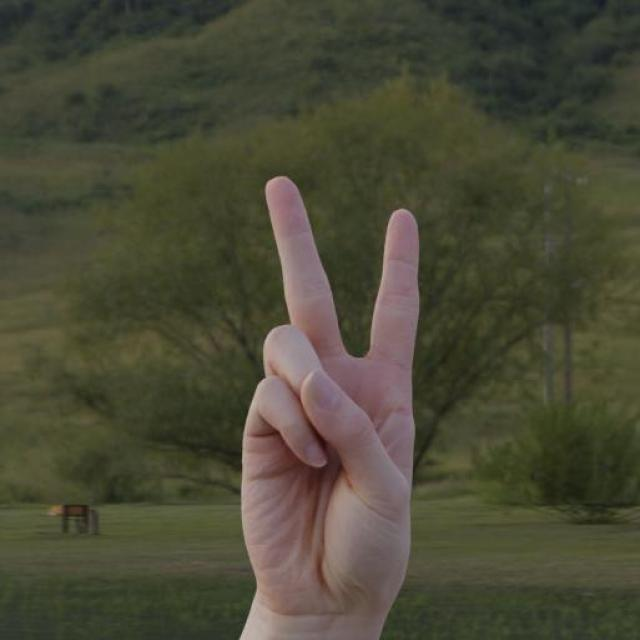V: (238, 155, 426, 640)
